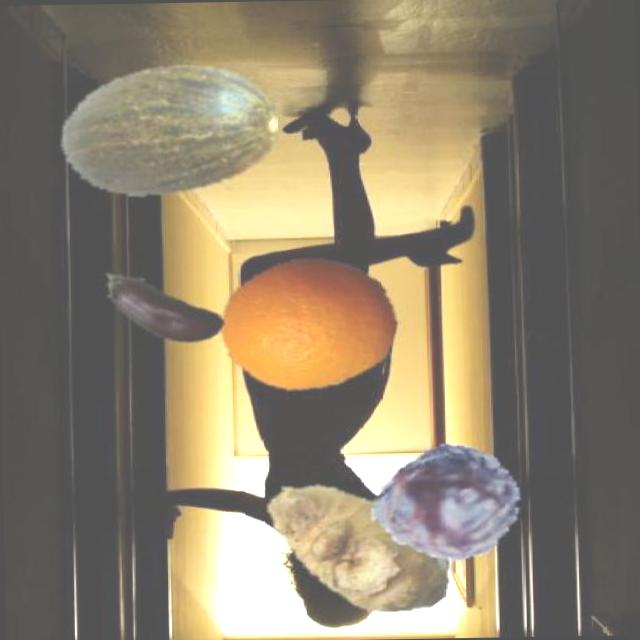Orange: (218, 253, 400, 392)
